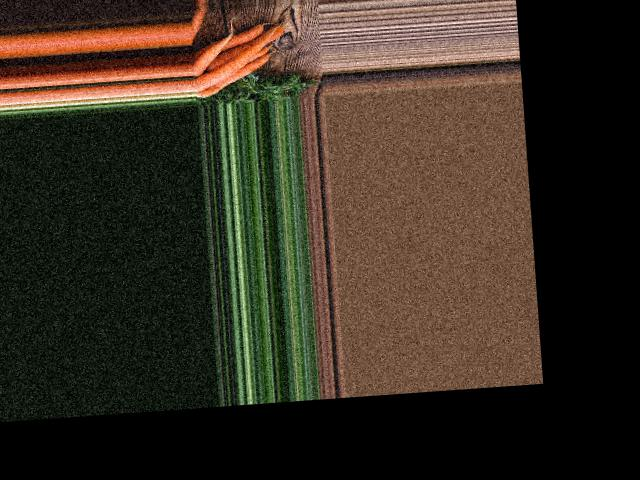carrot: (193, 34, 233, 74)
